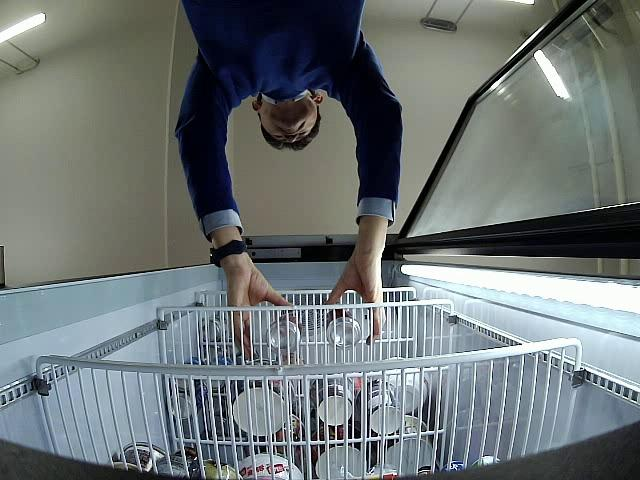00_hand: (221, 260, 295, 360), (325, 228, 386, 345)
